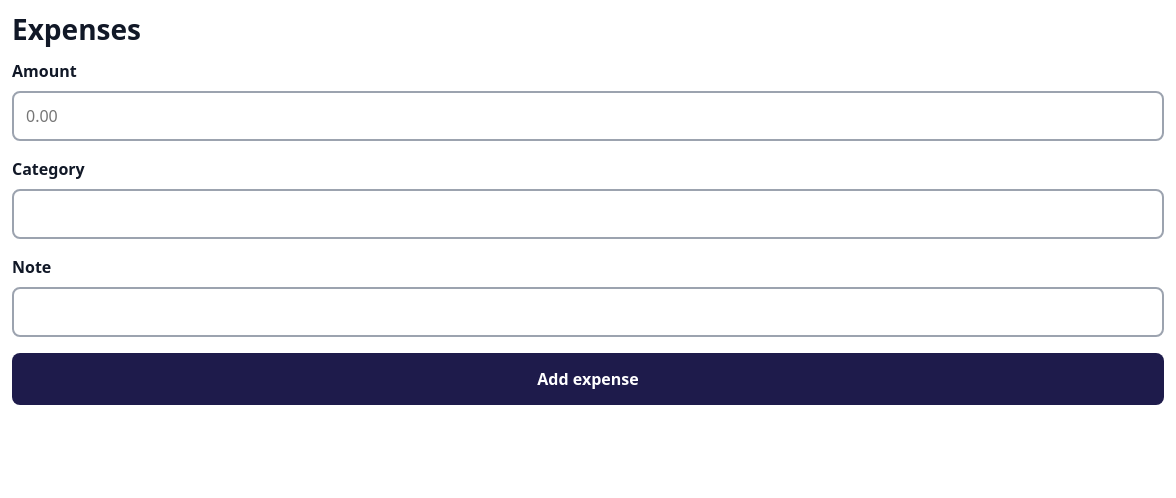
Test case: ExpensesScreen + ExpenseForm › shows a validation error when category is empty
Type "50.00" into the field labelled "Amount" at (588, 116), box [12, 91, 1164, 141]
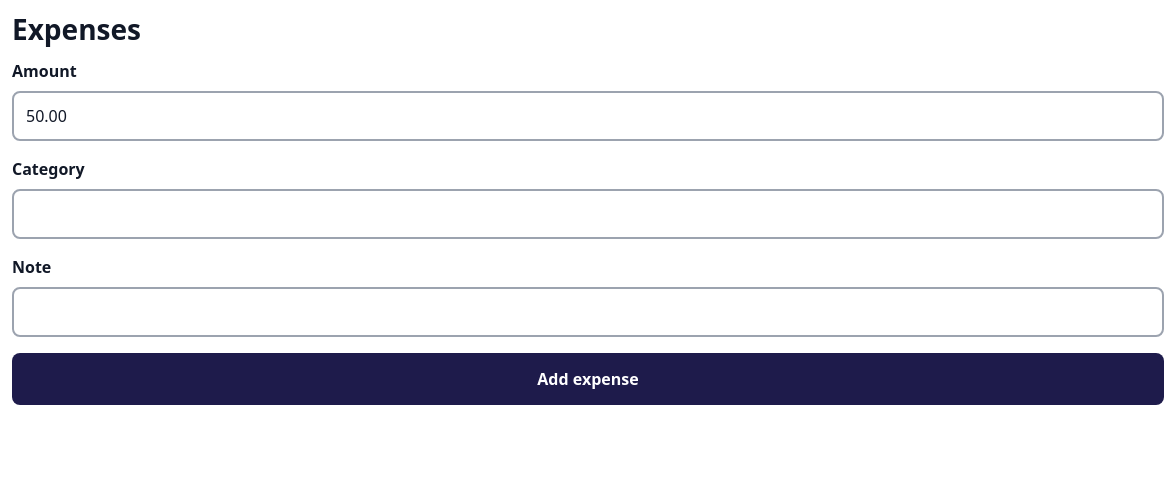
Leave category blank.
Click the button "Add expense" at (588, 379), box [12, 353, 1164, 405]
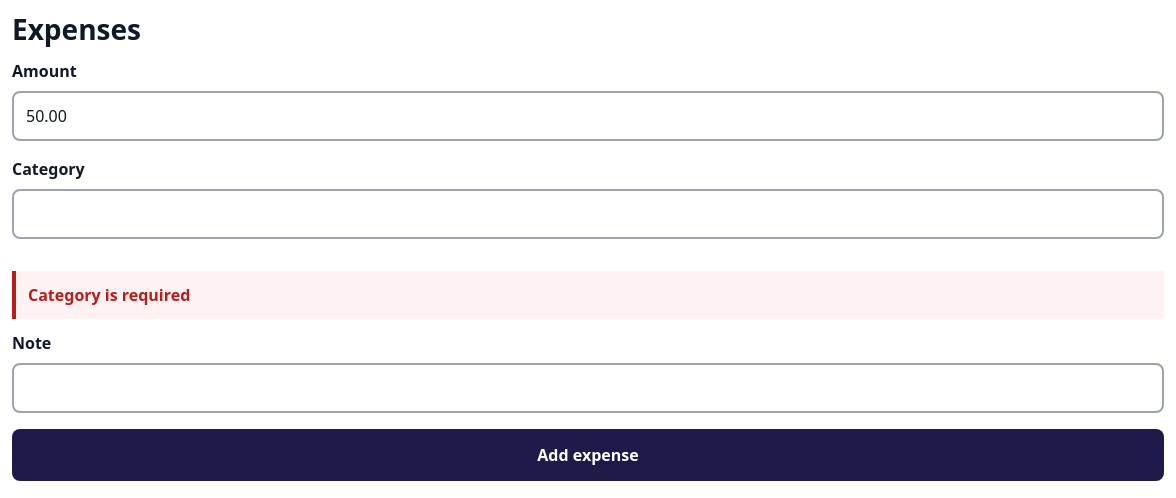
Result: the text "Category is required" is shown at [12, 271, 1164, 319]
